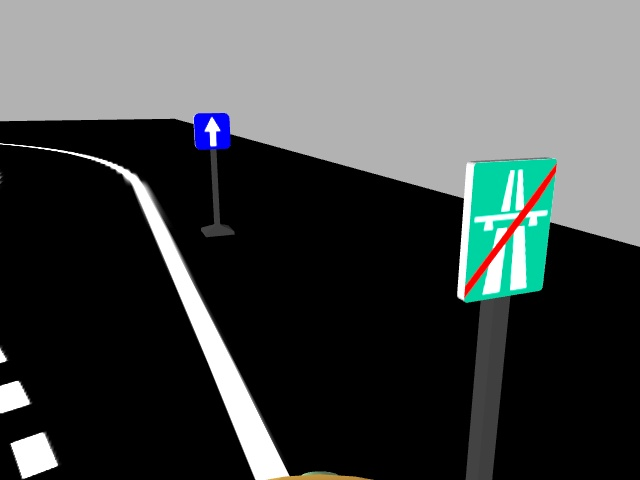HighwayExit: (448, 160, 552, 298)
OneWay: (192, 111, 232, 148)
